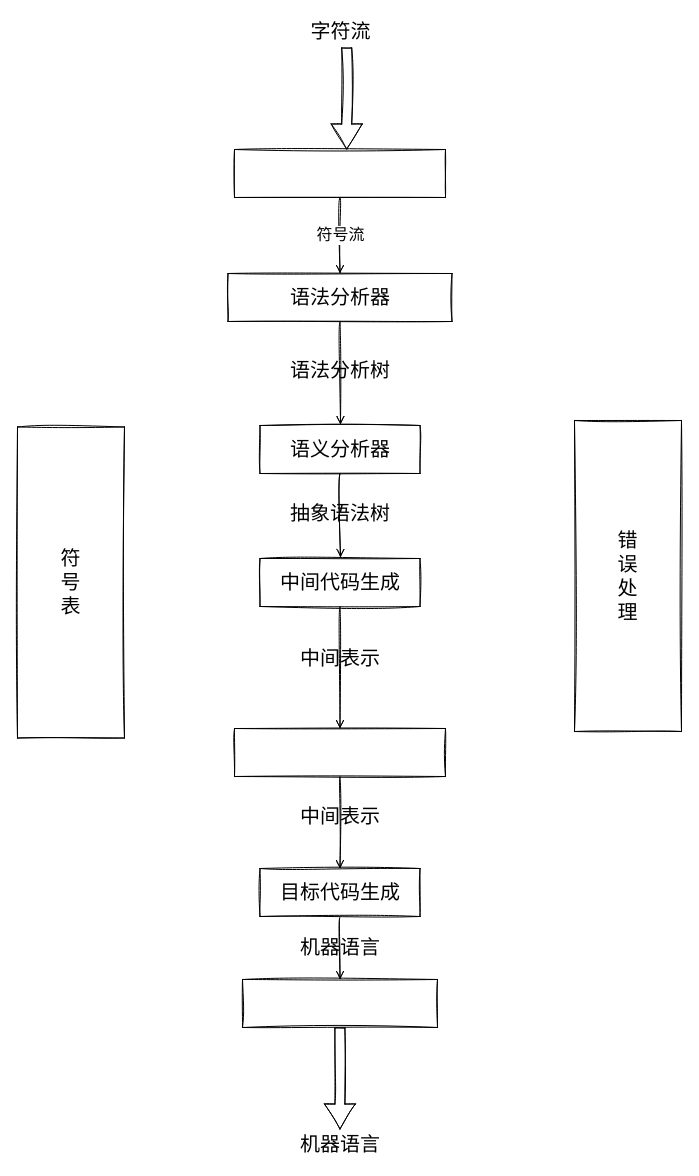
Some shapes in this 699 by 1176 pixel diagram are drawn without their labels. Each missing label, with the centre of its shape:
"机器无关代码优化" belongs at (x=340, y=752).
"机器相关代码优化" belongs at (x=340, y=1003).
"词法分析器" belongs at (x=340, y=173).
